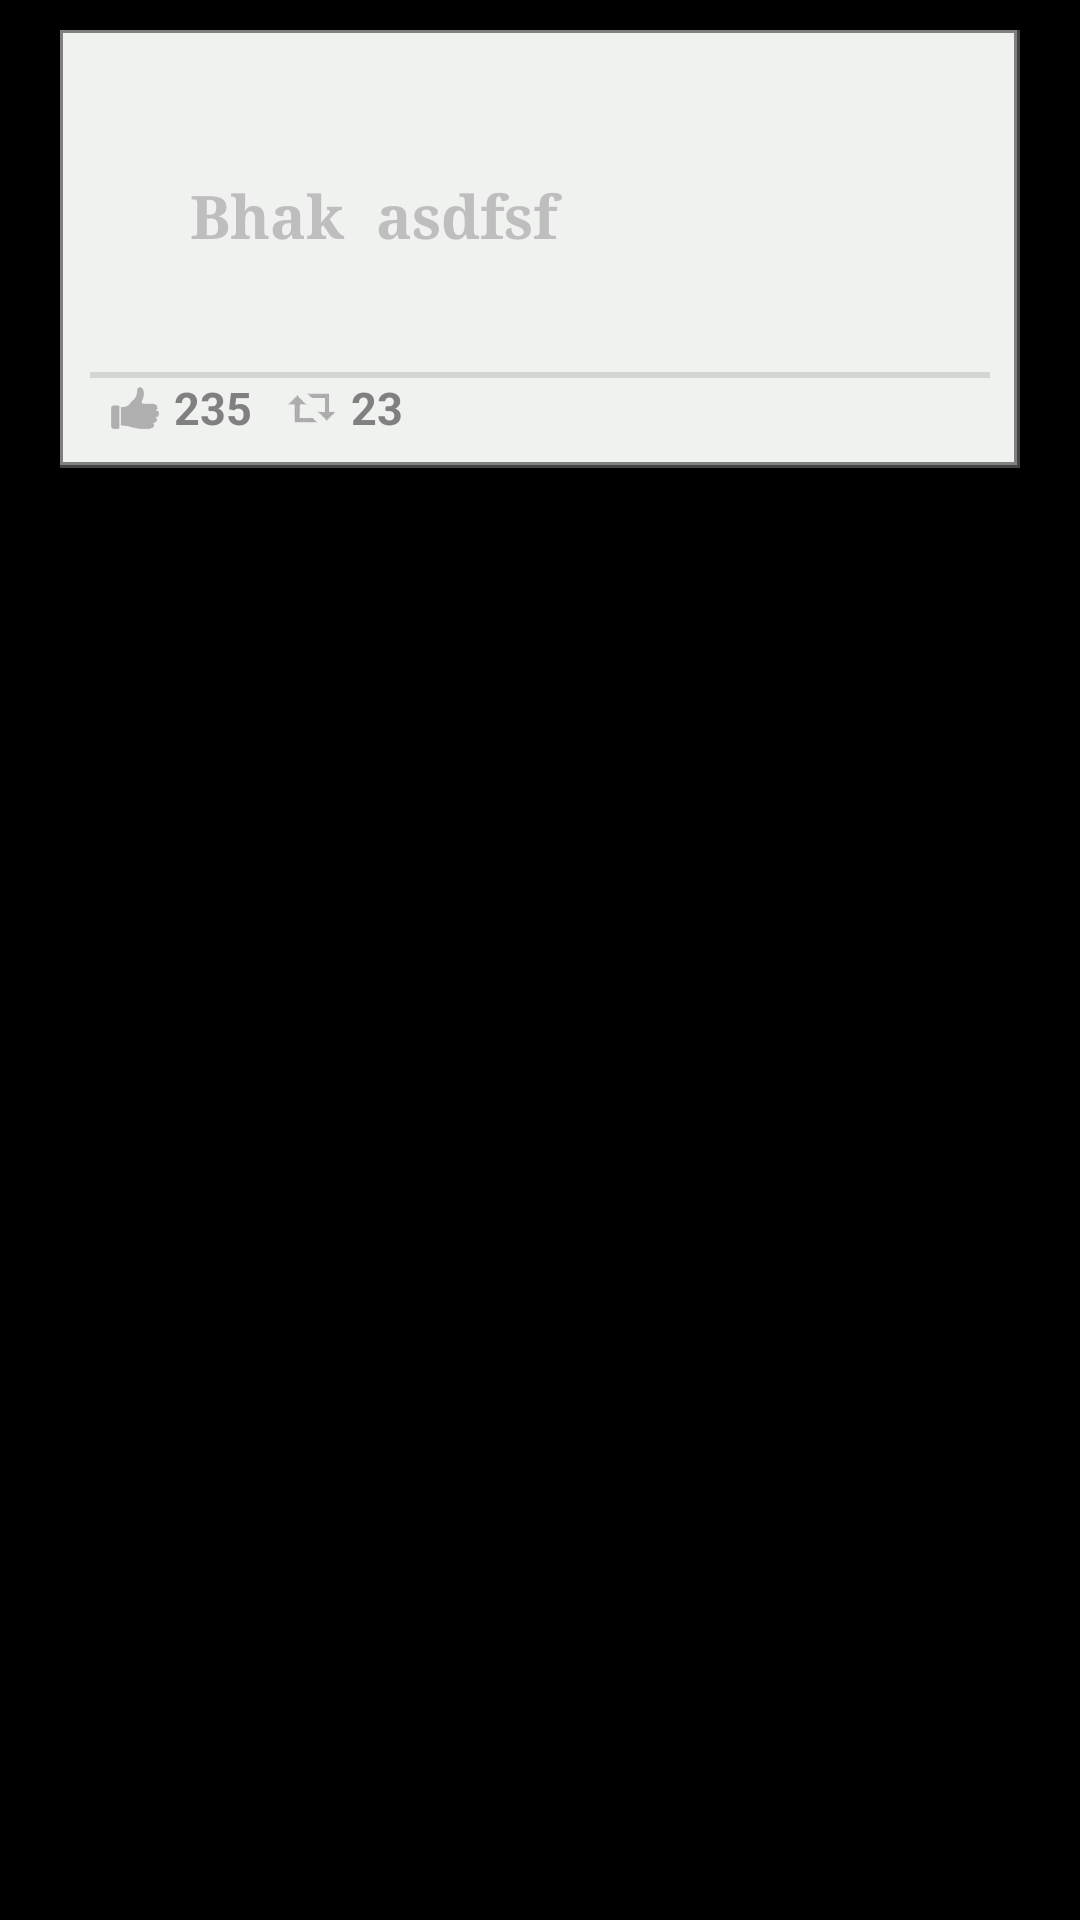

Point at icon controls on the screen. Image size 1080×1920, points as (x,y).
like: (135,408)
rebeep: (311,408)
